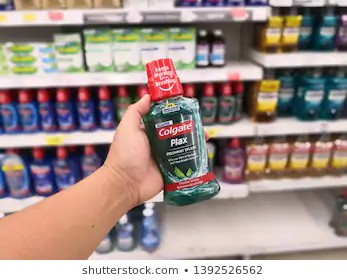colgate-Plax: (149, 50, 211, 207)
